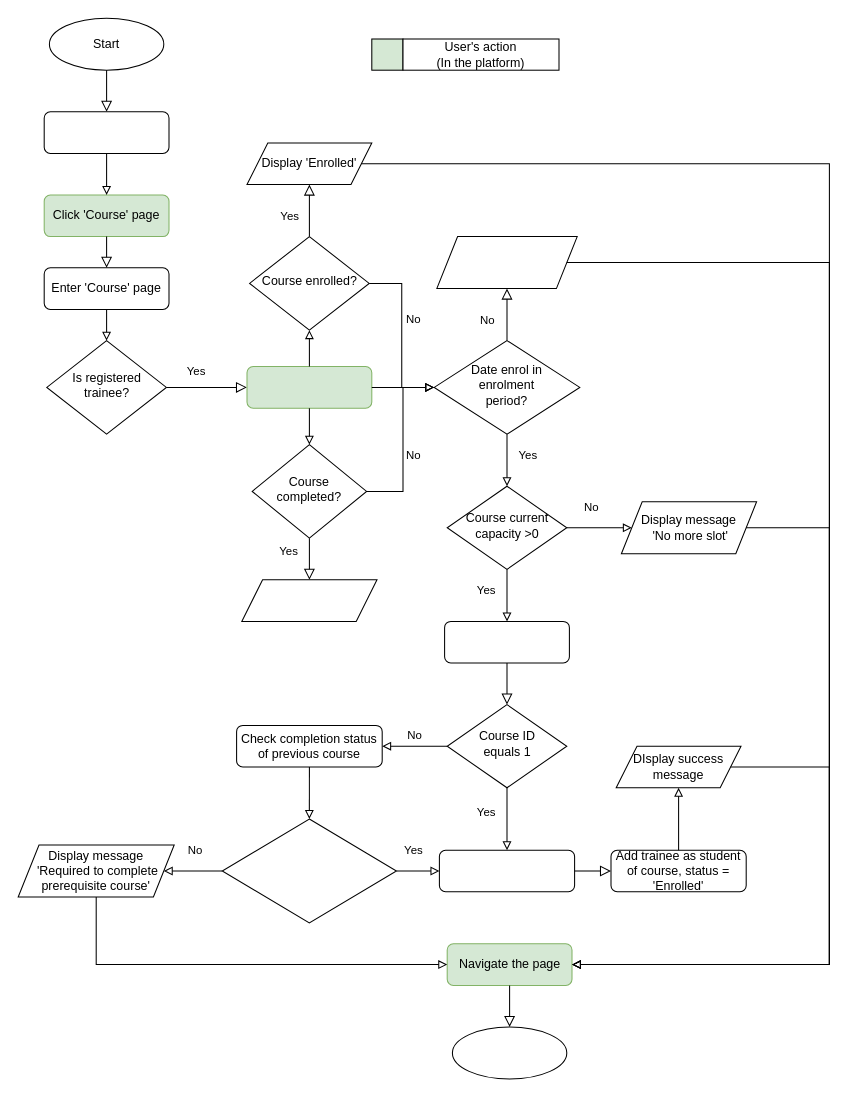
Image size: 856x1097. Some labels were removed from this diagram. The shapes that lost their labels are listed below. From the top down, each one's box as (x1, y1, x2, y2) in pixels, then its label:
(43, 111, 169, 153): Enter 'Course' list page
(436, 236, 577, 289): Display message to enrol within time
(246, 366, 372, 408): Click 'Enrol'
(241, 579, 377, 621): Display 'Completed'
(444, 620, 569, 663): Obtain course ID
(221, 818, 396, 923): Previous course status equals 'Completed'
(438, 849, 575, 892): Reduce number of current capacity by 1
(451, 1026, 567, 1079): End
